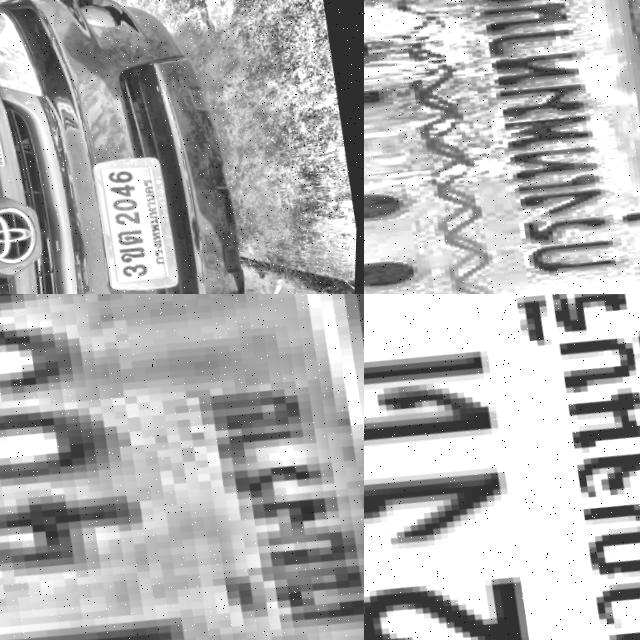license-plate: (0, 294, 364, 640), (364, 294, 640, 640), (364, 0, 640, 294), (90, 142, 189, 291)
